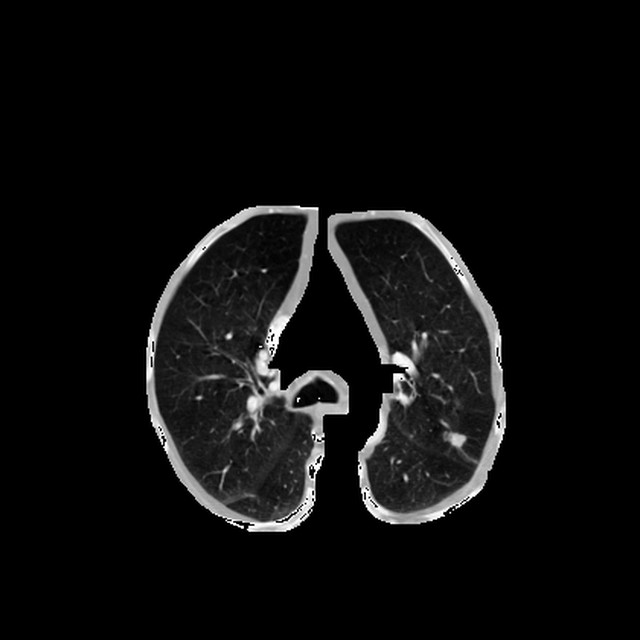PN: (446, 430, 465, 448)
